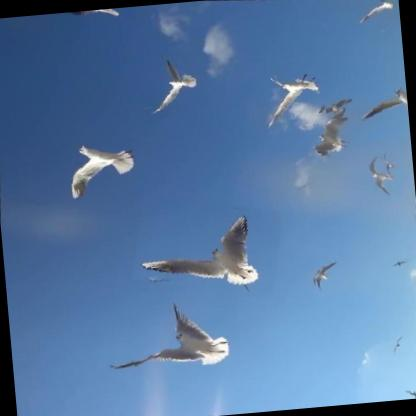bird: (129, 187, 287, 302), (97, 287, 244, 385), (132, 42, 210, 120), (59, 135, 142, 208), (253, 66, 327, 132), (307, 101, 357, 163), (353, 85, 409, 126), (362, 152, 401, 201), (306, 256, 343, 297), (309, 93, 356, 121), (355, 0, 398, 28), (379, 147, 401, 179), (385, 331, 411, 358), (386, 254, 412, 271), (399, 386, 416, 400)
